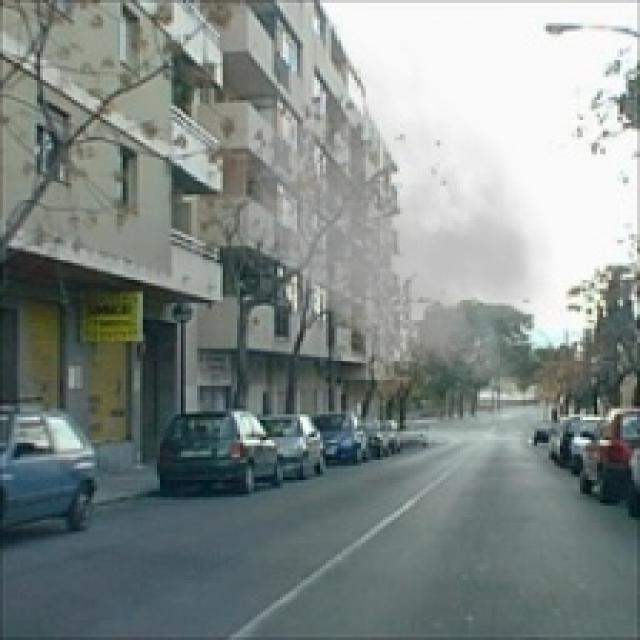Smoke: (206, 17, 572, 397)
